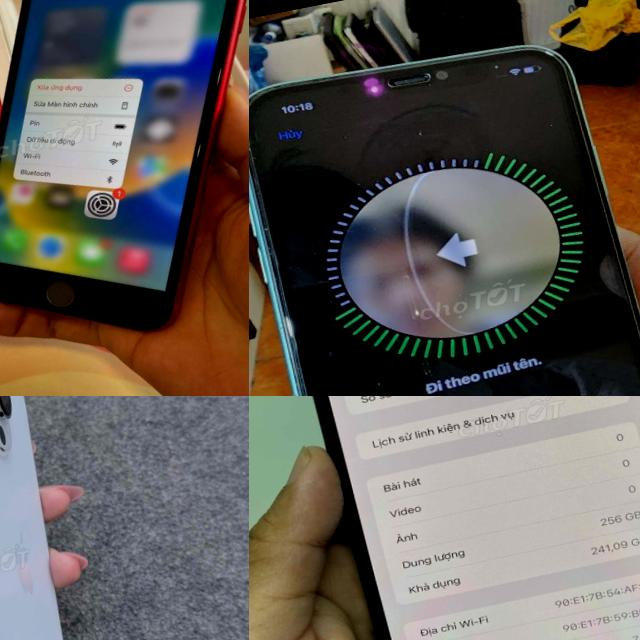gen_11: (249, 3, 640, 396)
gen_14: (0, 396, 124, 640)
gen_7_8: (0, 0, 249, 350)
gen_x_xs: (249, 396, 640, 640)
scratch: (249, 63, 363, 100), (272, 306, 318, 396), (249, 196, 279, 277)
